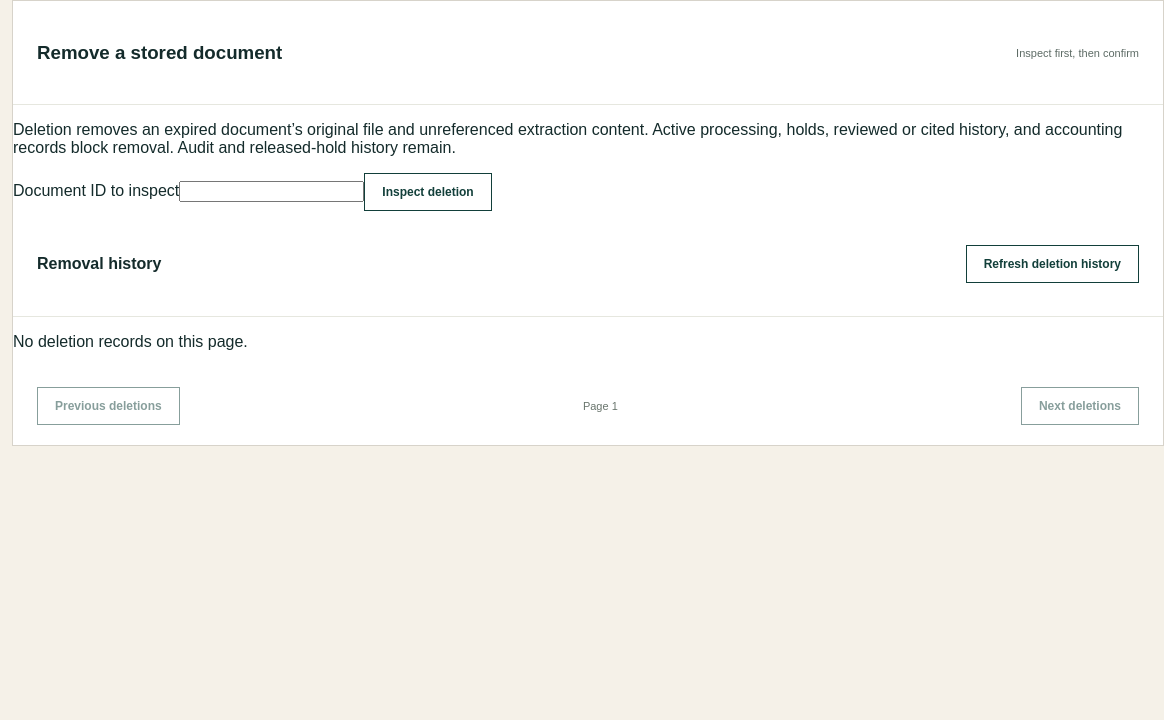
Test case: shows preservation blockers without a delete action
Expected: the text "No deletion records on this page." is shown, x1=13 y1=333 x2=248 y2=350
Type "33333333-3333-3333-3333-333333333333" into the field labelled "Document ID to inspect" at (272, 192), box x1=179 y1=181 x2=364 y2=202
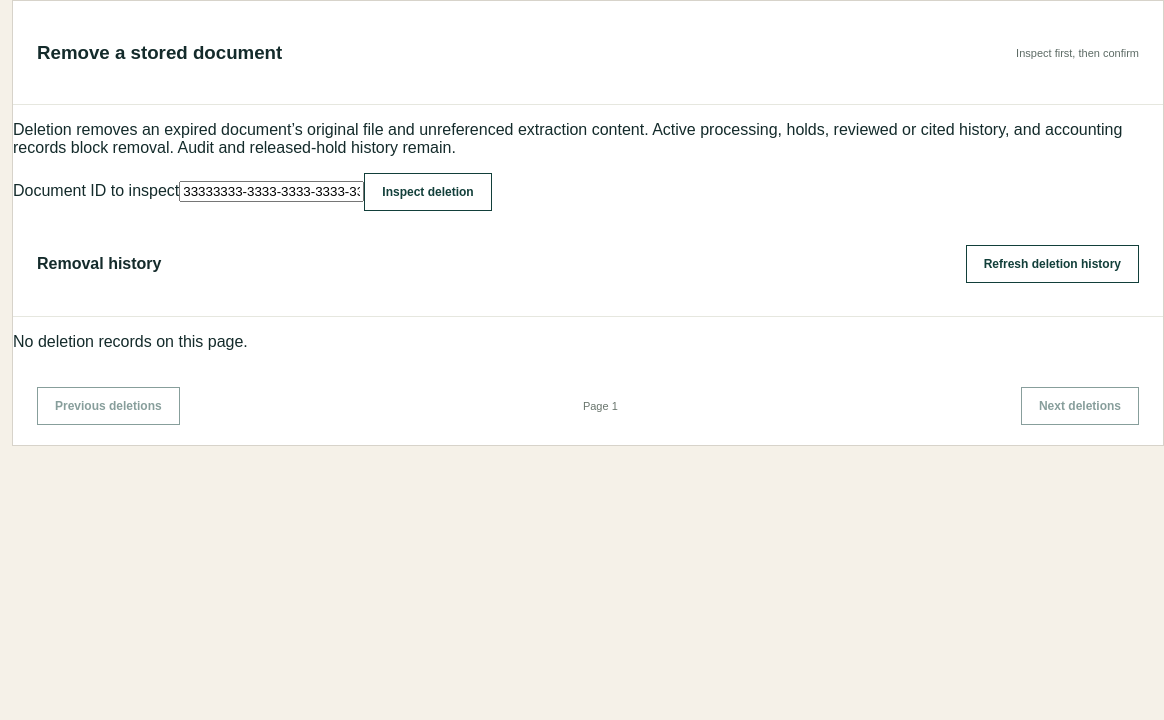
Click the button "Inspect deletion" at (428, 192), box x1=364 y1=173 x2=492 y2=211
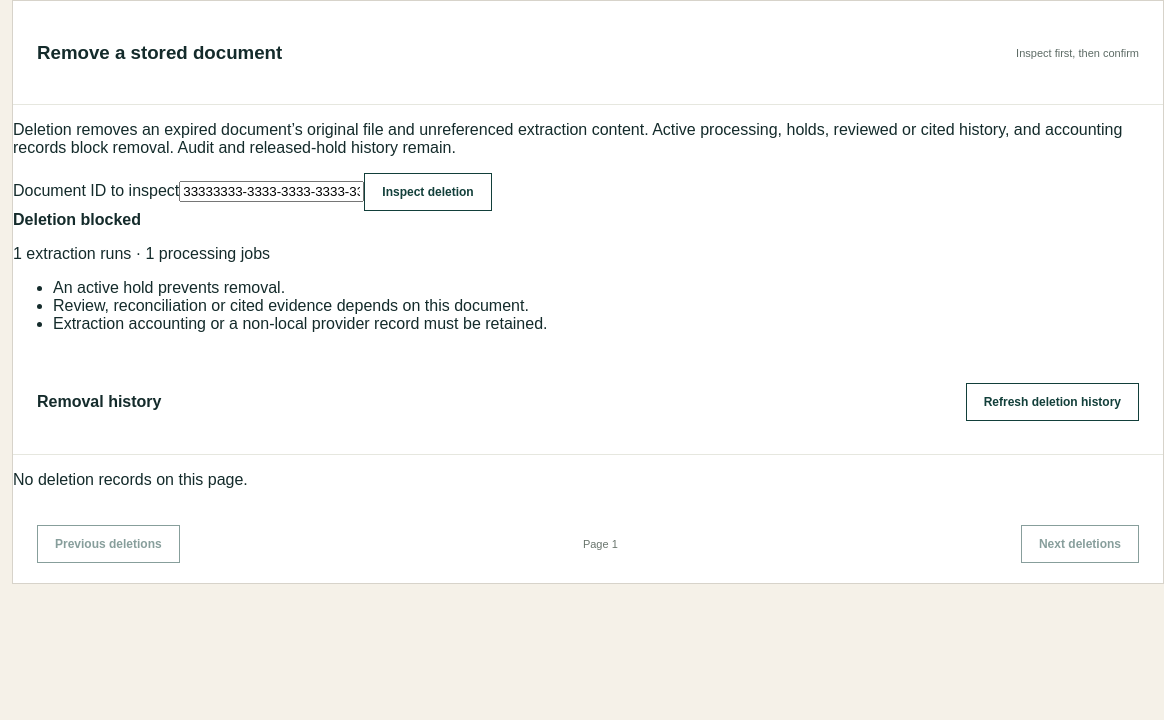
Now the text "Deletion blocked" is shown, box x1=13 y1=211 x2=141 y2=228
Now the list item "An active hold prevents removal." is shown, box x1=53 y1=279 x2=285 y2=296
